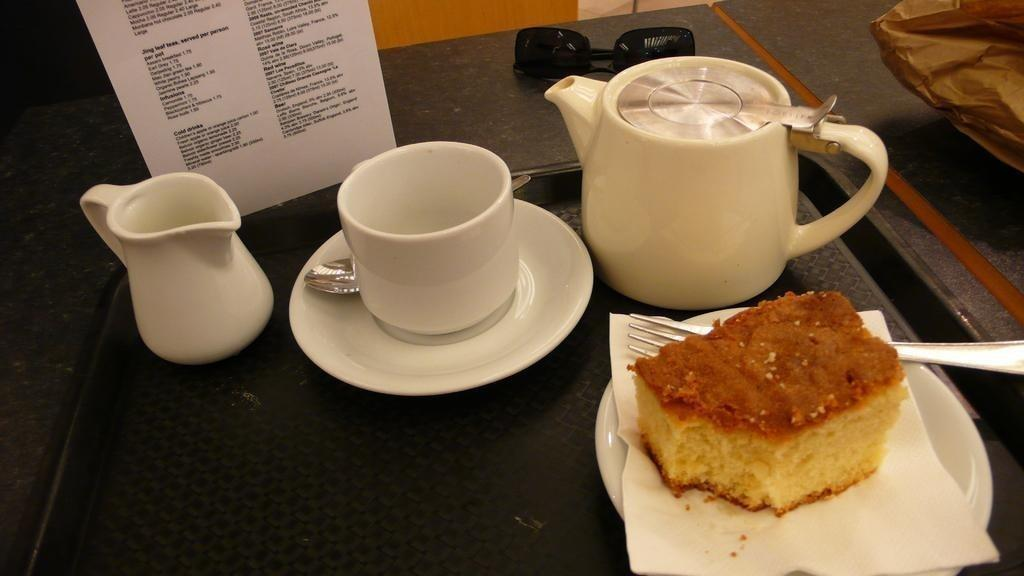cup-handle: (334, 139, 522, 335)
